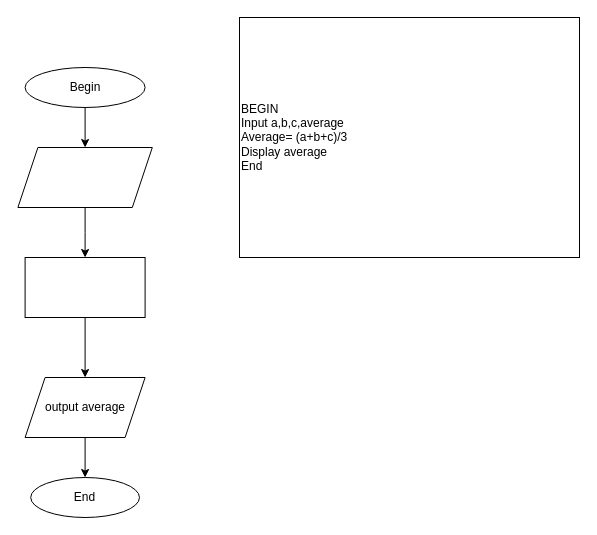
Image size: 597x535. Some labels were removed from this diagram. Each missing label, with the box of its shape:
Average = ( a + b+ c) / 3: (24, 256, 145, 318)
Input a,b,c, average: (17, 146, 152, 208)
